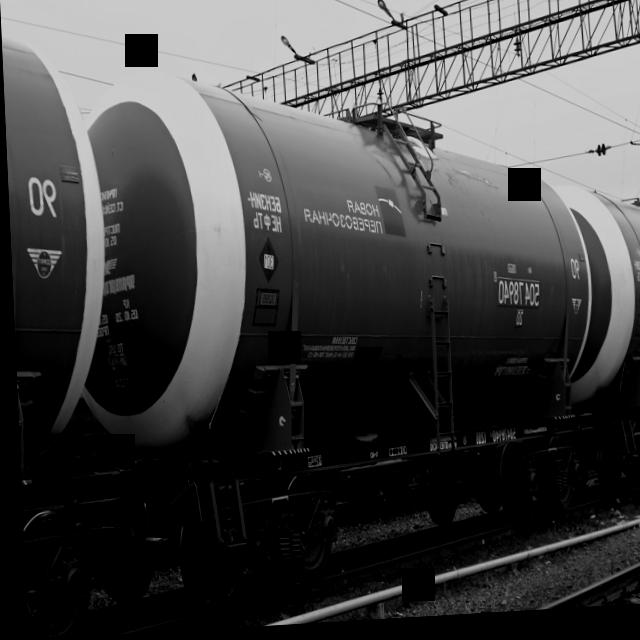tank: (71, 31, 607, 635), (0, 0, 122, 640), (543, 165, 640, 508)
